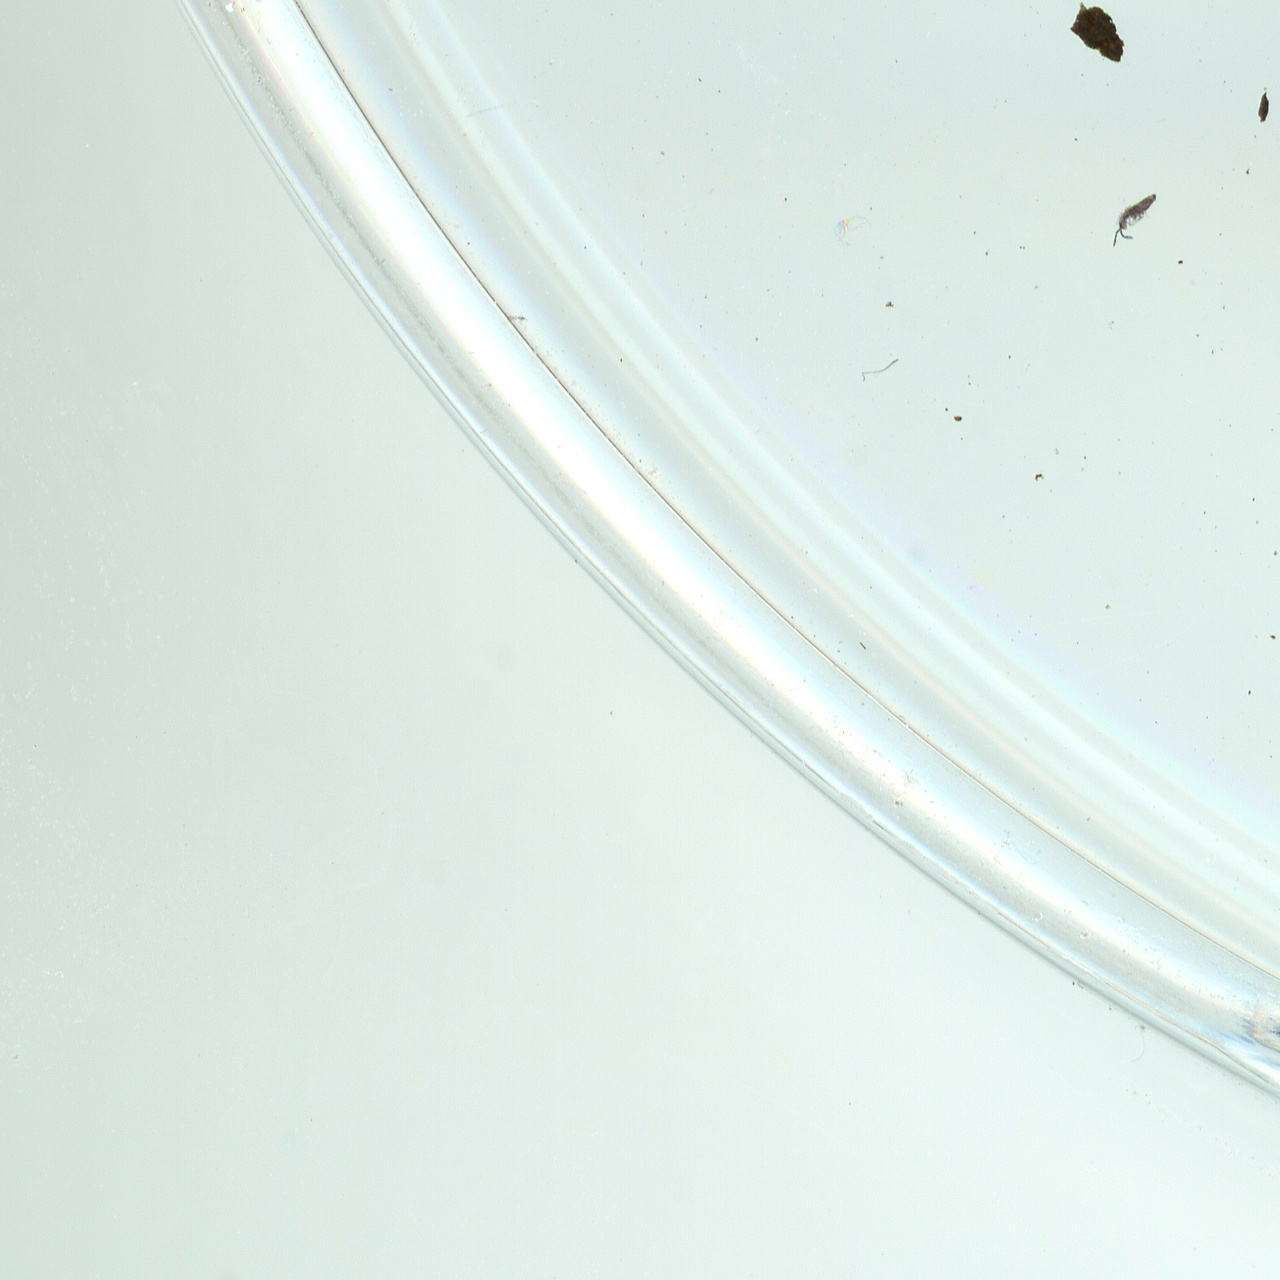arthropod: (1110, 191, 1162, 248)
